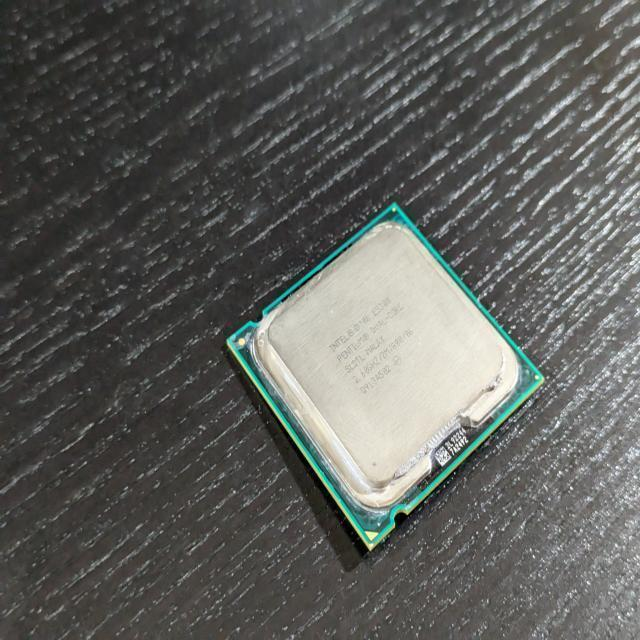CPU: (225, 202, 546, 552)
